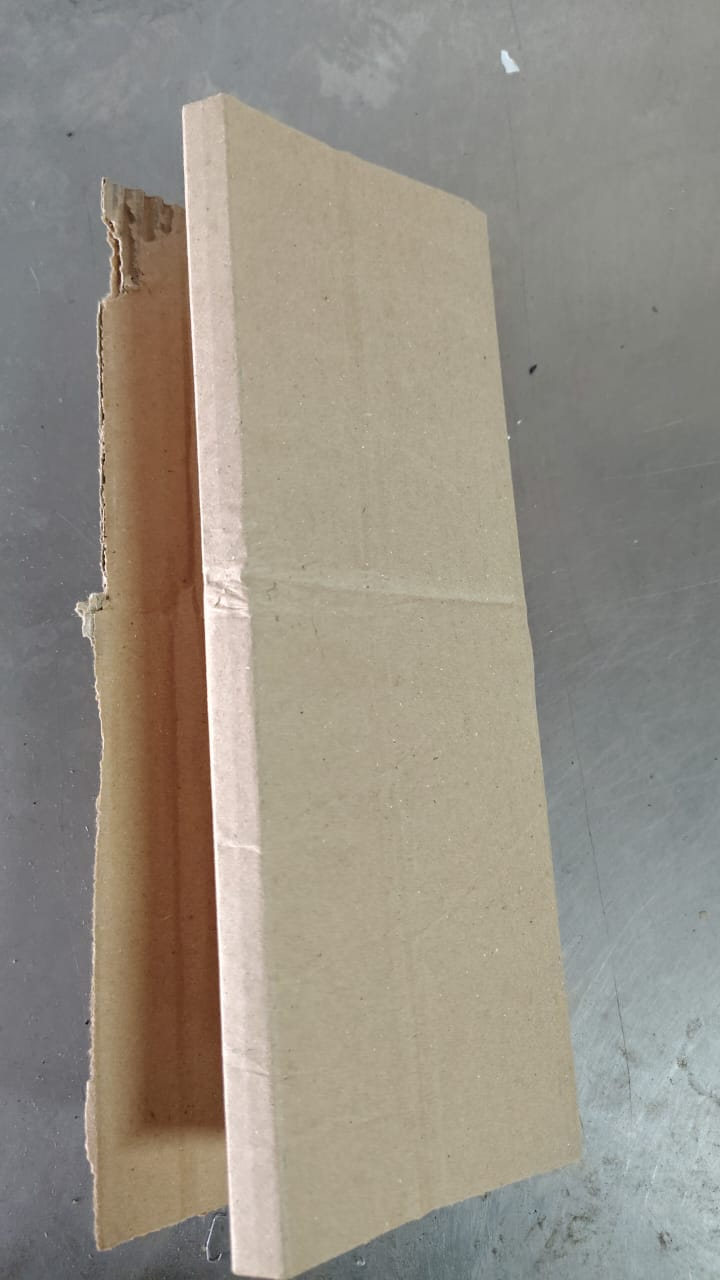Carton: (84, 95, 580, 1278), (348, 1255, 359, 1276)
